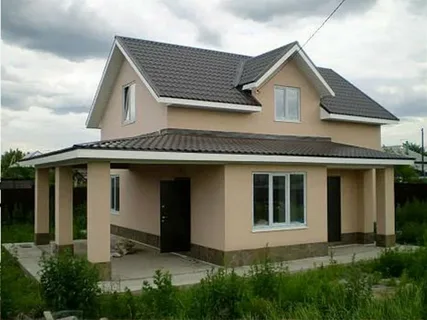private_hause: (106, 39, 390, 250)
